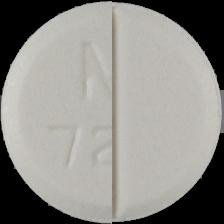0378-0722: (0, 0, 224, 224)
